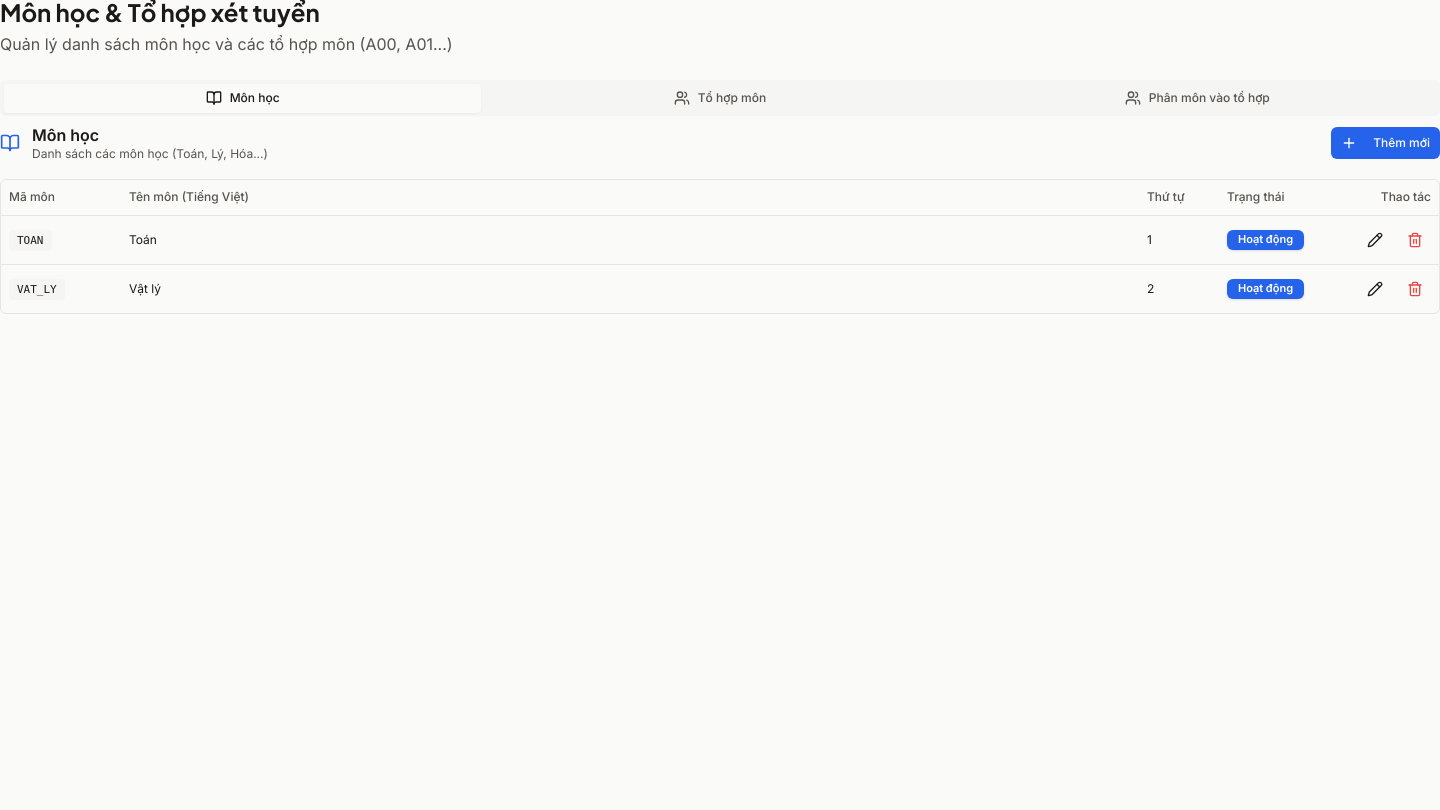
it: SubjectTable (via SubjectGroupPanel) › should open edit dialog and populate data correctly
This screenshot has width=1440, height=810.
# Edit "TOAN" (Row 1)
Click the button named "Chỉnh sửa" in the row of "TOAN" at {"x": 1375, "y": 240}, box left=1359, top=224, right=1391, bottom=256
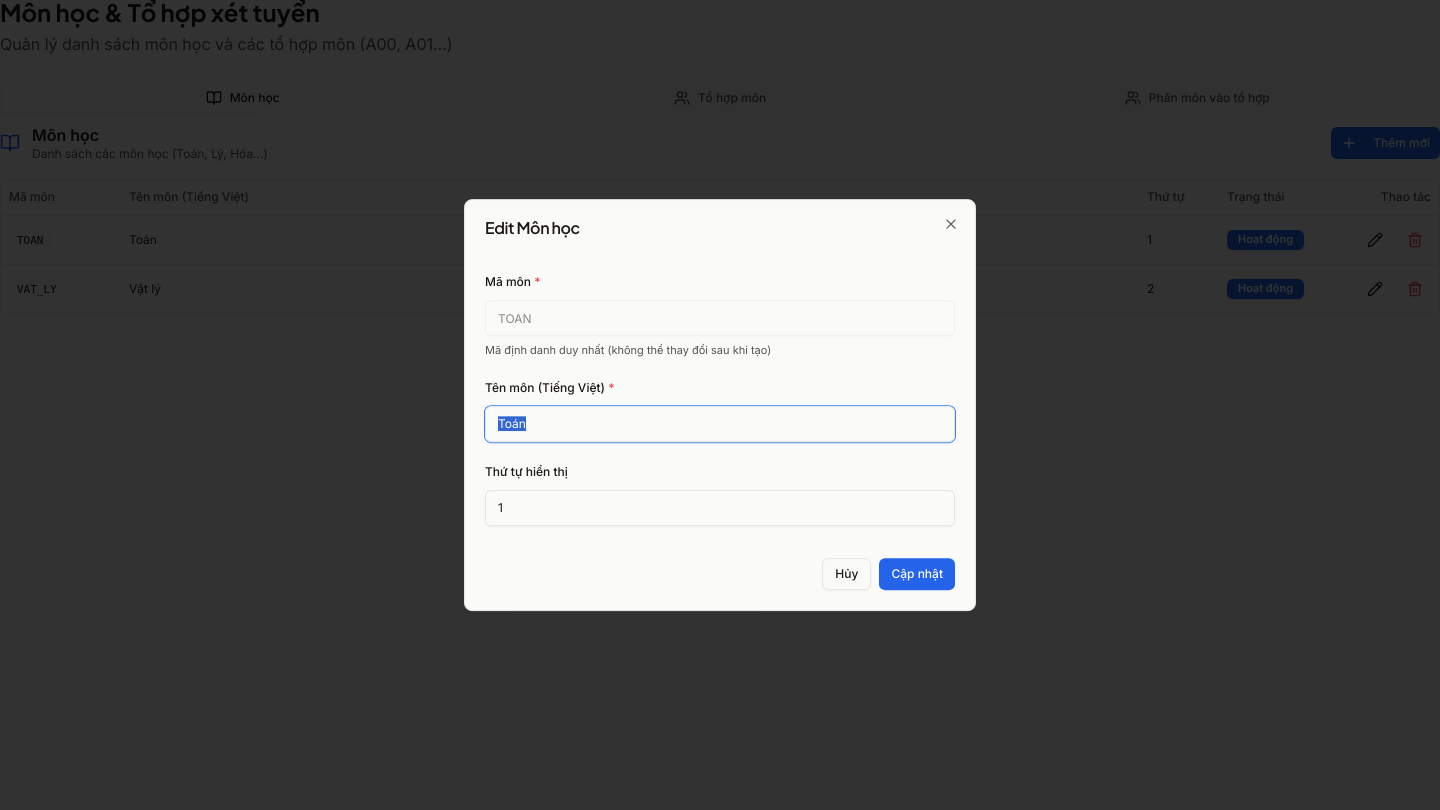
Check: the dialog is shown, box left=464, top=199, right=976, bottom=611
Check: the field labelled "Mã môn *" holds "TOAN", box left=485, top=300, right=955, bottom=336
Check: the field labelled "Mã môn *" is disabled, box left=485, top=300, right=955, bottom=336
